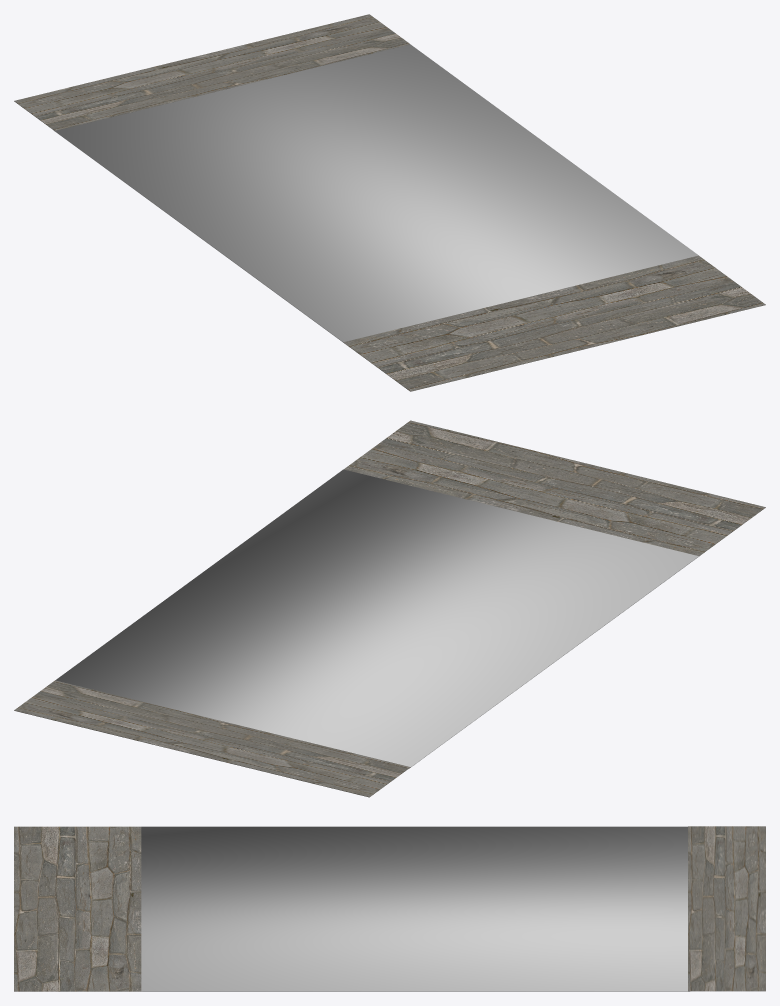
Rendered from pavimentoScacchi.fbx.
3 views of the same model, one above another, from view 1: azimuth 30°, elevation 25°; view 2: azimuth 150°, elevation 25°; view 3: azimuth 270°, elevation 25° (orthographic). The views are drawn at different scales.
Parts seen in each view (by area): view 1: object_194, Plane.029, Plane.028; view 2: object_194, Plane.029, Plane.028; view 3: object_194, Plane.029, Plane.028.
Boxes of the visible parts, box(x1,y1,x2,y2) form: object_194: box(54, 44, 698, 342); Plane.029: box(343, 255, 765, 391); Plane.028: box(14, 14, 409, 130); object_194: box(55, 469, 698, 768); Plane.029: box(344, 420, 765, 556); Plane.028: box(14, 680, 410, 797); object_194: box(141, 826, 689, 991); Plane.029: box(14, 826, 142, 991); Plane.028: box(688, 826, 765, 991).
Size of the model in its own units: 1000 by 1.9 by 1932.
